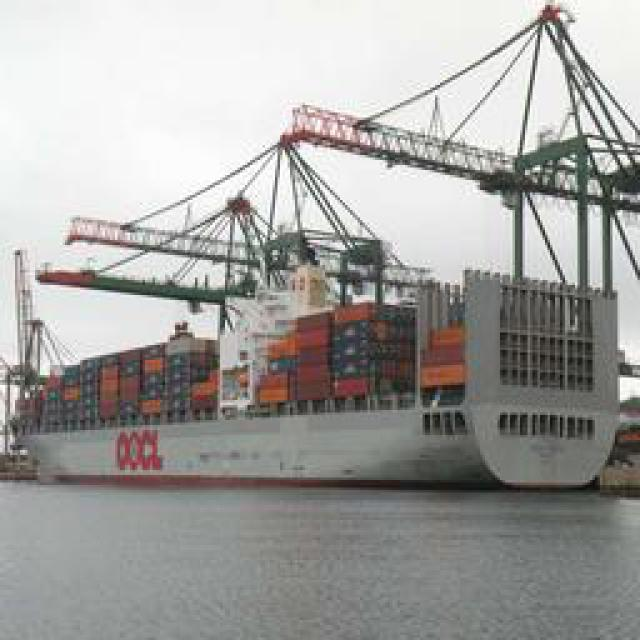Ship: (11, 79, 629, 494)
